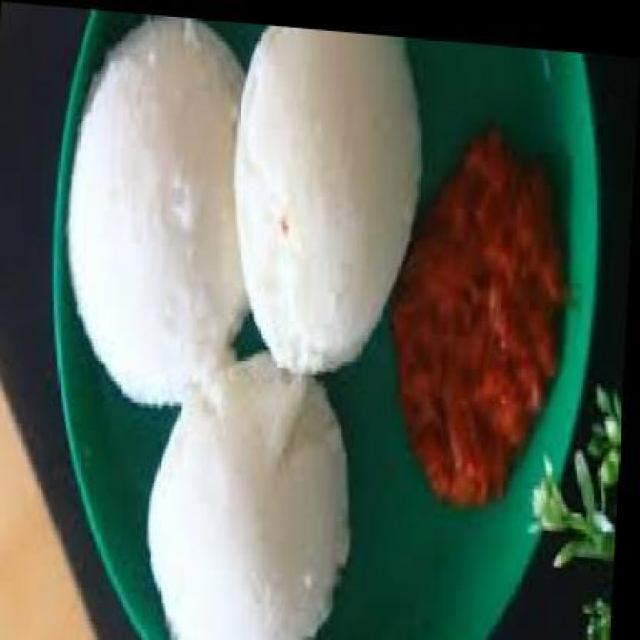idli: (63, 6, 265, 408), (226, 17, 428, 372), (148, 340, 360, 640)
